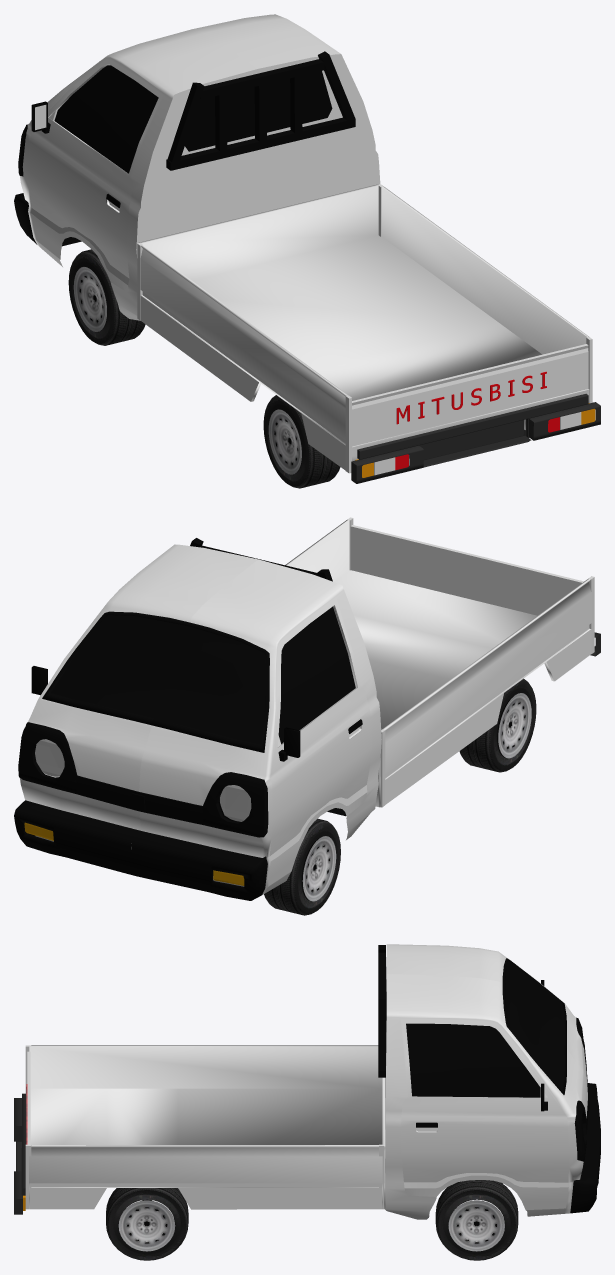
The model's file is car4.glb.
3 renders of one model, top to bottom at view 1: azimuth 30°, elevation 25°; view 2: azimuth 150°, elevation 25°; view 3: azimuth 270°, elevation 25°, orthographic. The views are drawn at different scales.
Parts seen in each view (by area): view 1: Cube.014_40, Plane.001_12, Plane.025_0, Plane.015_11, Cube.006_22, Cube.017_38, Object_50, Plane.003_2, Plane.012_13, TireRing174_24, TireRing174.001_26, Rims12.001_27 (+2 smaller); view 2: Plane.025_0, Cube.014_40, Plane.006_4, Plane.015_11, Plane.010_7, Cube.006_22, Plane.003_2, Plane.007_5, Plane.005_3, TireRing174_24, Plane.017_14, TireRing174.001_26 (+4 smaller); view 3: Cube.014_40, Plane.015_11, Plane.025_0, Plane.003_2, Plane.006_4, TireRing174.003_29, TireRing174.002_28, Rims12.002_30, Rims12.003_31, Plane.010_7, Object_50, Plane.005_3 (+2 smaller).
Boxes of the visible parts, <box> form: Cube.014_40: <box>137,184,592,473</box>; Plane.001_12: <box>136,54,380,257</box>; Plane.025_0: <box>20,14,340,320</box>; Plane.015_11: <box>27,59,162,291</box>; Cube.006_22: <box>352,344,588,446</box>; Cube.017_38: <box>166,51,355,170</box>; Object_50: <box>351,393,600,483</box>; Plane.003_2: <box>54,65,158,173</box>; Plane.012_13: <box>185,71,332,151</box>; TireRing174_24: <box>68,249,145,345</box>; TireRing174.001_26: <box>263,395,340,488</box>; Rims12.001_27: <box>268,409,301,474</box>; Plane.025_0: <box>20,544,381,894</box>; Cube.014_40: <box>283,517,594,807</box>; Plane.006_4: <box>51,615,266,744</box>; Plane.015_11: <box>42,598,372,886</box>; Plane.010_7: <box>14,800,267,900</box>; Cube.006_22: <box>350,525,583,615</box>; Plane.003_2: <box>278,606,355,743</box>; Plane.007_5: <box>18,722,268,837</box>; Plane.005_3: <box>42,611,269,752</box>; TireRing174_24: <box>264,818,340,915</box>; Plane.017_14: <box>76,775,202,824</box>; TireRing174.001_26: <box>459,678,536,772</box>; Cube.014_40: <box>25,1045,385,1209</box>; Plane.015_11: <box>400,1019,569,1209</box>; Plane.025_0: <box>384,944,587,1219</box>; Plane.003_2: <box>406,1023,540,1097</box>; Plane.006_4: <box>505,961,562,1087</box>; TireRing174.003_29: <box>435,1180,518,1260</box>; TireRing174.002_28: <box>106,1188,188,1260</box>; Rims12.002_30: <box>118,1200,175,1251</box>; Rims12.003_31: <box>448,1200,504,1251</box>; Plane.010_7: <box>570,1083,600,1213</box>; Object_50: <box>14,1093,25,1214</box>; Plane.005_3: <box>502,958,566,1094</box>.
Bounding box in the file's own units: 1.45 × 1.5 × 3.28.
Materials: 29 (5 with a texture image).
